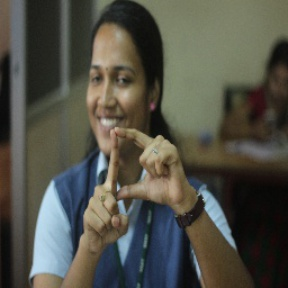D: (94, 121, 174, 215)
